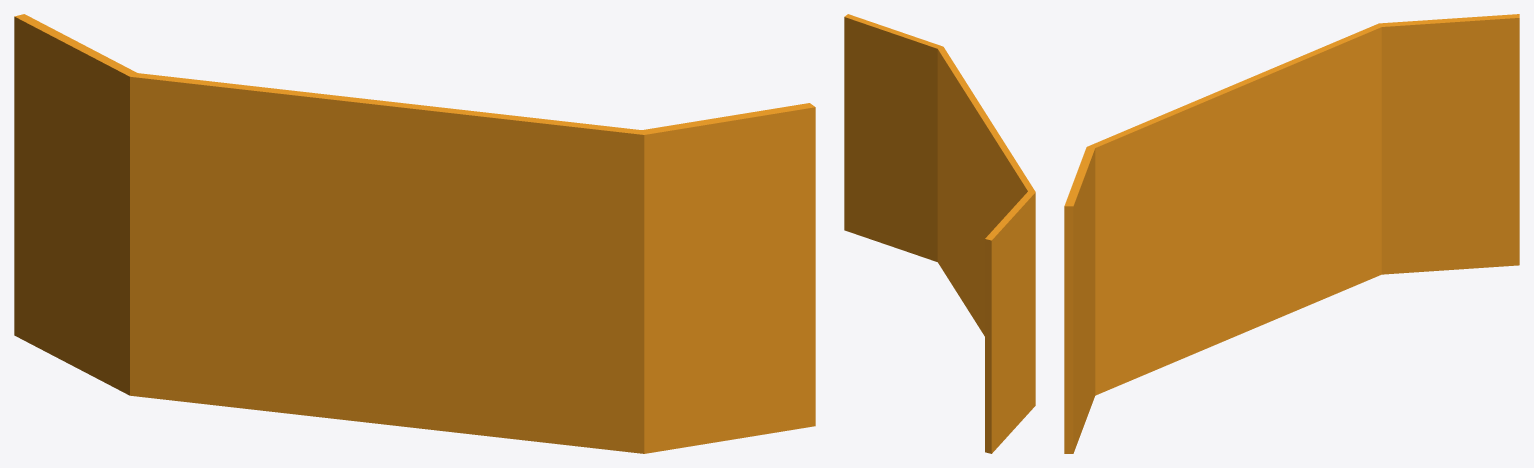
The model's file is SM_Buildings_WallChamfered_5x5_01.fbx.
3 views of the same model, side by side, from view 1: azimuth 30°, elevation 25°; view 2: azimuth 150°, elevation 25°; view 3: azimuth 270°, elevation 25° (orthographic). The views are drawn at different scales.
Visible parts, largest first — view 1: SM_Buildings_WallChamfered_5x5_01; view 2: SM_Buildings_WallChamfered_5x5_01; view 3: SM_Buildings_WallChamfered_5x5_01.
Boxes of the visible parts, left/top/right/bottom form: SM_Buildings_WallChamfered_5x5_01: left=14, top=14, right=815, bottom=453; SM_Buildings_WallChamfered_5x5_01: left=844, top=14, right=1035, bottom=453; SM_Buildings_WallChamfered_5x5_01: left=1064, top=14, right=1519, bottom=453.
Bounding box in the file's own units: 500 × 300 × 500.
